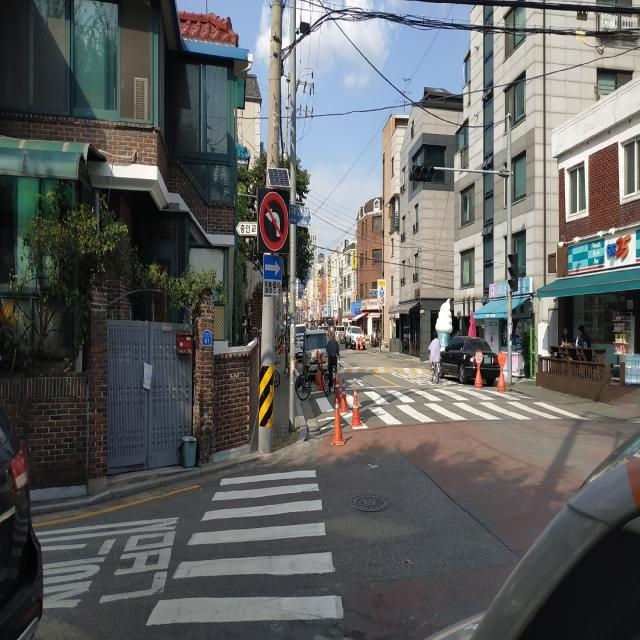횡단보도: (144, 468, 345, 628), (304, 390, 588, 427)
